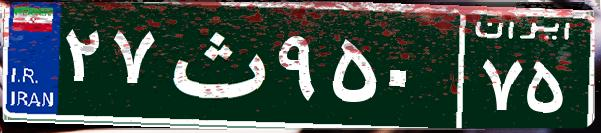0: (385, 28, 445, 110)
2: (57, 26, 110, 107)
5: (330, 28, 385, 110), (525, 38, 570, 115)
7: (475, 38, 525, 113), (110, 28, 158, 105)
9: (273, 28, 330, 110)
ث: (158, 15, 273, 115)
